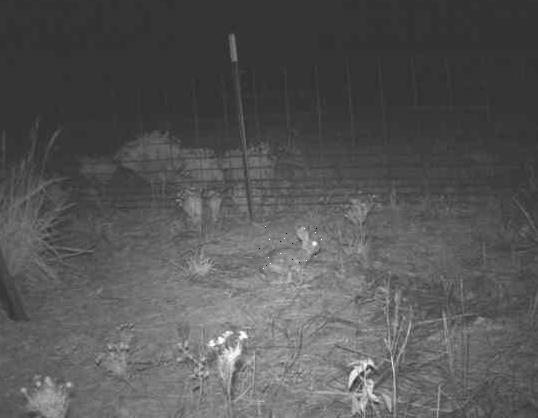Rabbit: (258, 226, 322, 279)
